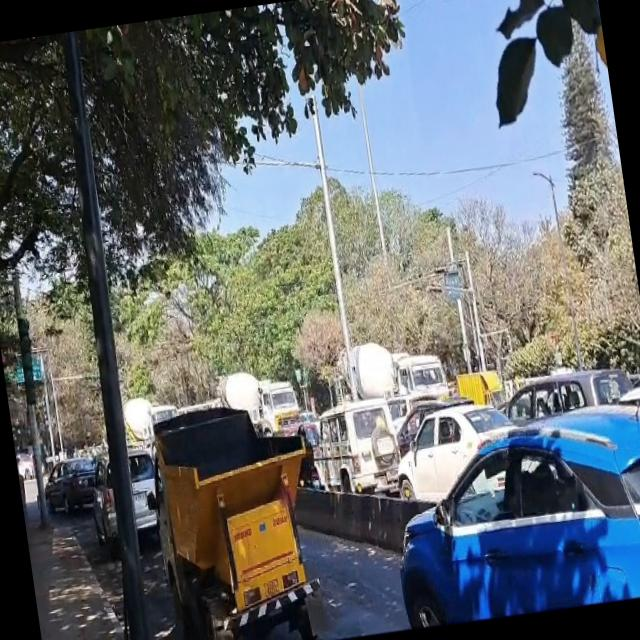cars: (380, 407, 640, 632), (389, 399, 528, 510), (307, 399, 407, 506), (44, 458, 102, 521)
